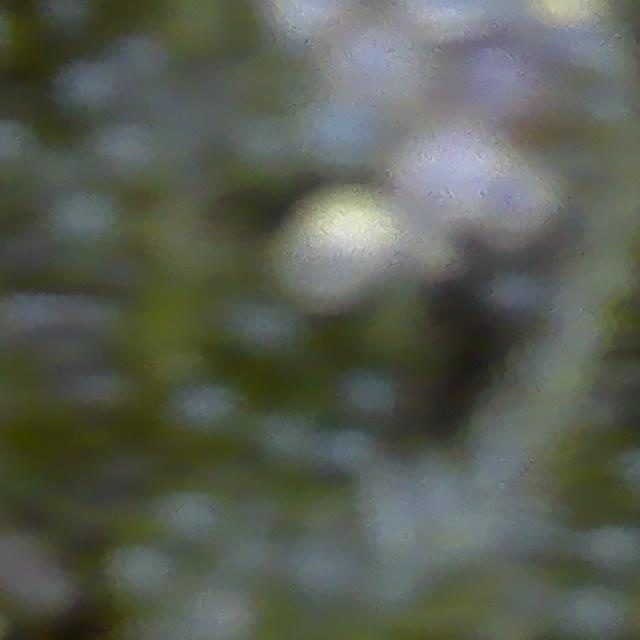SeaGrape: (268, 185, 397, 313), (223, 293, 301, 365), (90, 118, 166, 191), (167, 375, 245, 446), (151, 484, 224, 552), (47, 186, 124, 250), (555, 578, 632, 640), (105, 539, 174, 605), (182, 581, 257, 640), (338, 364, 399, 424), (583, 520, 640, 579), (39, 0, 99, 37)
